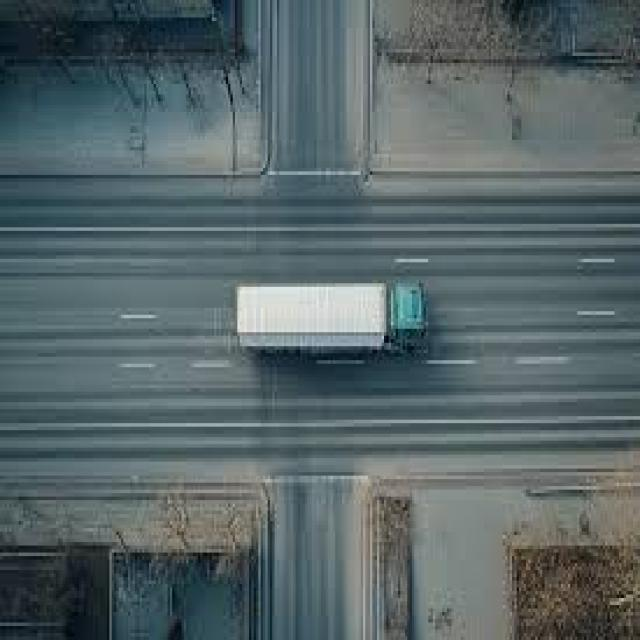truck: (226, 278, 431, 358)
